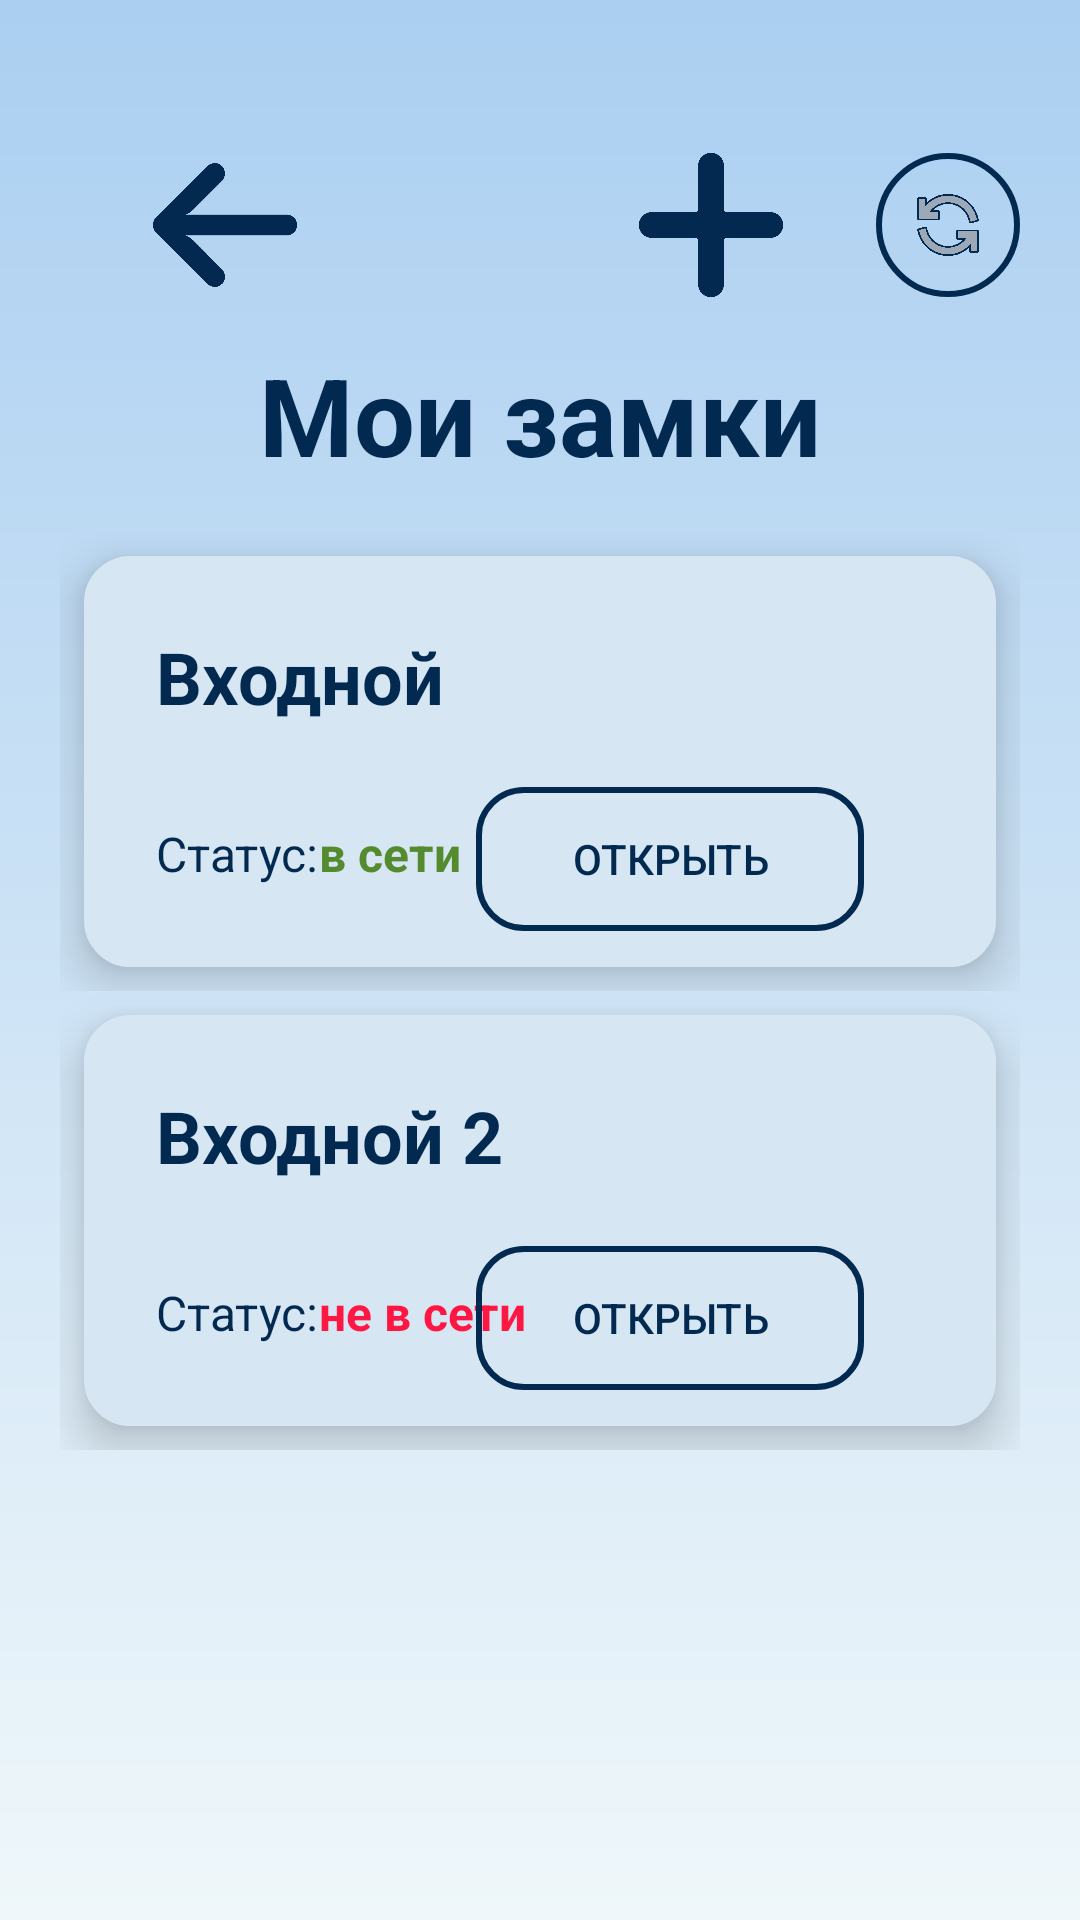

Icon click points for this 1080 × 1920 phone screenshot, format (x,y):
add: (711,225)
arrow: (225,225)
restart: (948,225)
